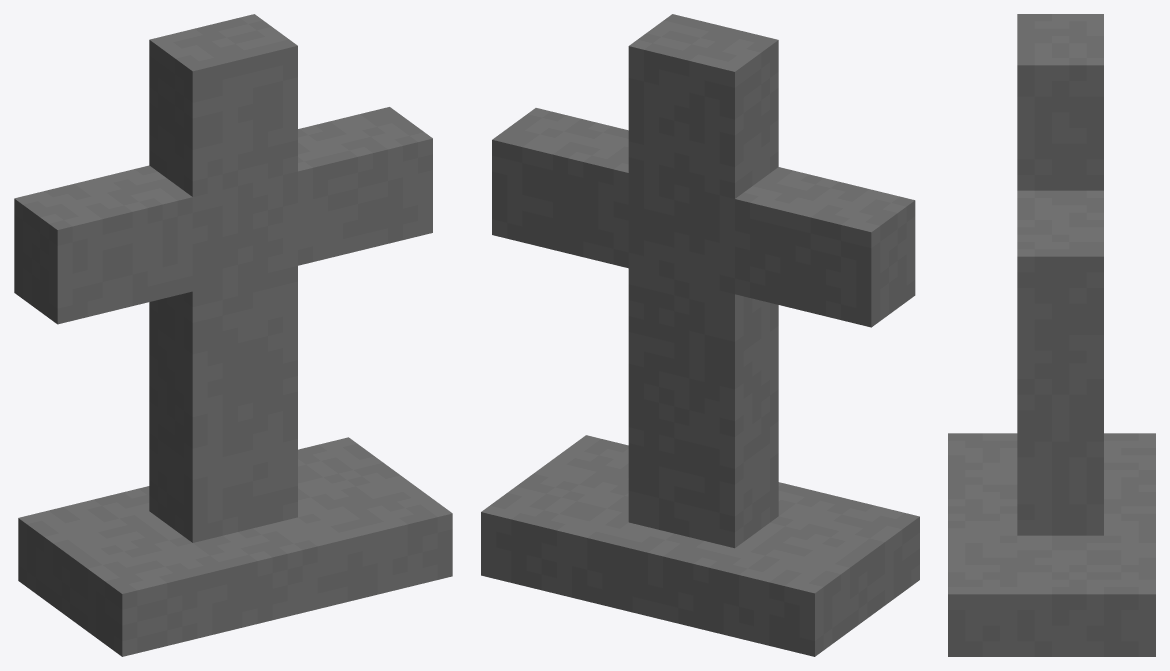
The model's file is Tombstones-0-TomBCross.obj.
3 views of the same model, side by side, from view 1: azimuth 30°, elevation 25°; view 2: azimuth 150°, elevation 25°; view 3: azimuth 270°, elevation 25° (orthographic).
Parts seen in each view (by area): view 1: TomBCross; view 2: TomBCross; view 3: TomBCross.
Part boxes in pixels (left/top/right/bottom): TomBCross: left=14, top=14, right=452, bottom=656; TomBCross: left=481, top=14, right=919, bottom=656; TomBCross: left=948, top=14, right=1155, bottom=656.
Size of the model in its own units: 2.5 by 3.4 by 1.2.
Materials: 1 (1 with a texture image).
